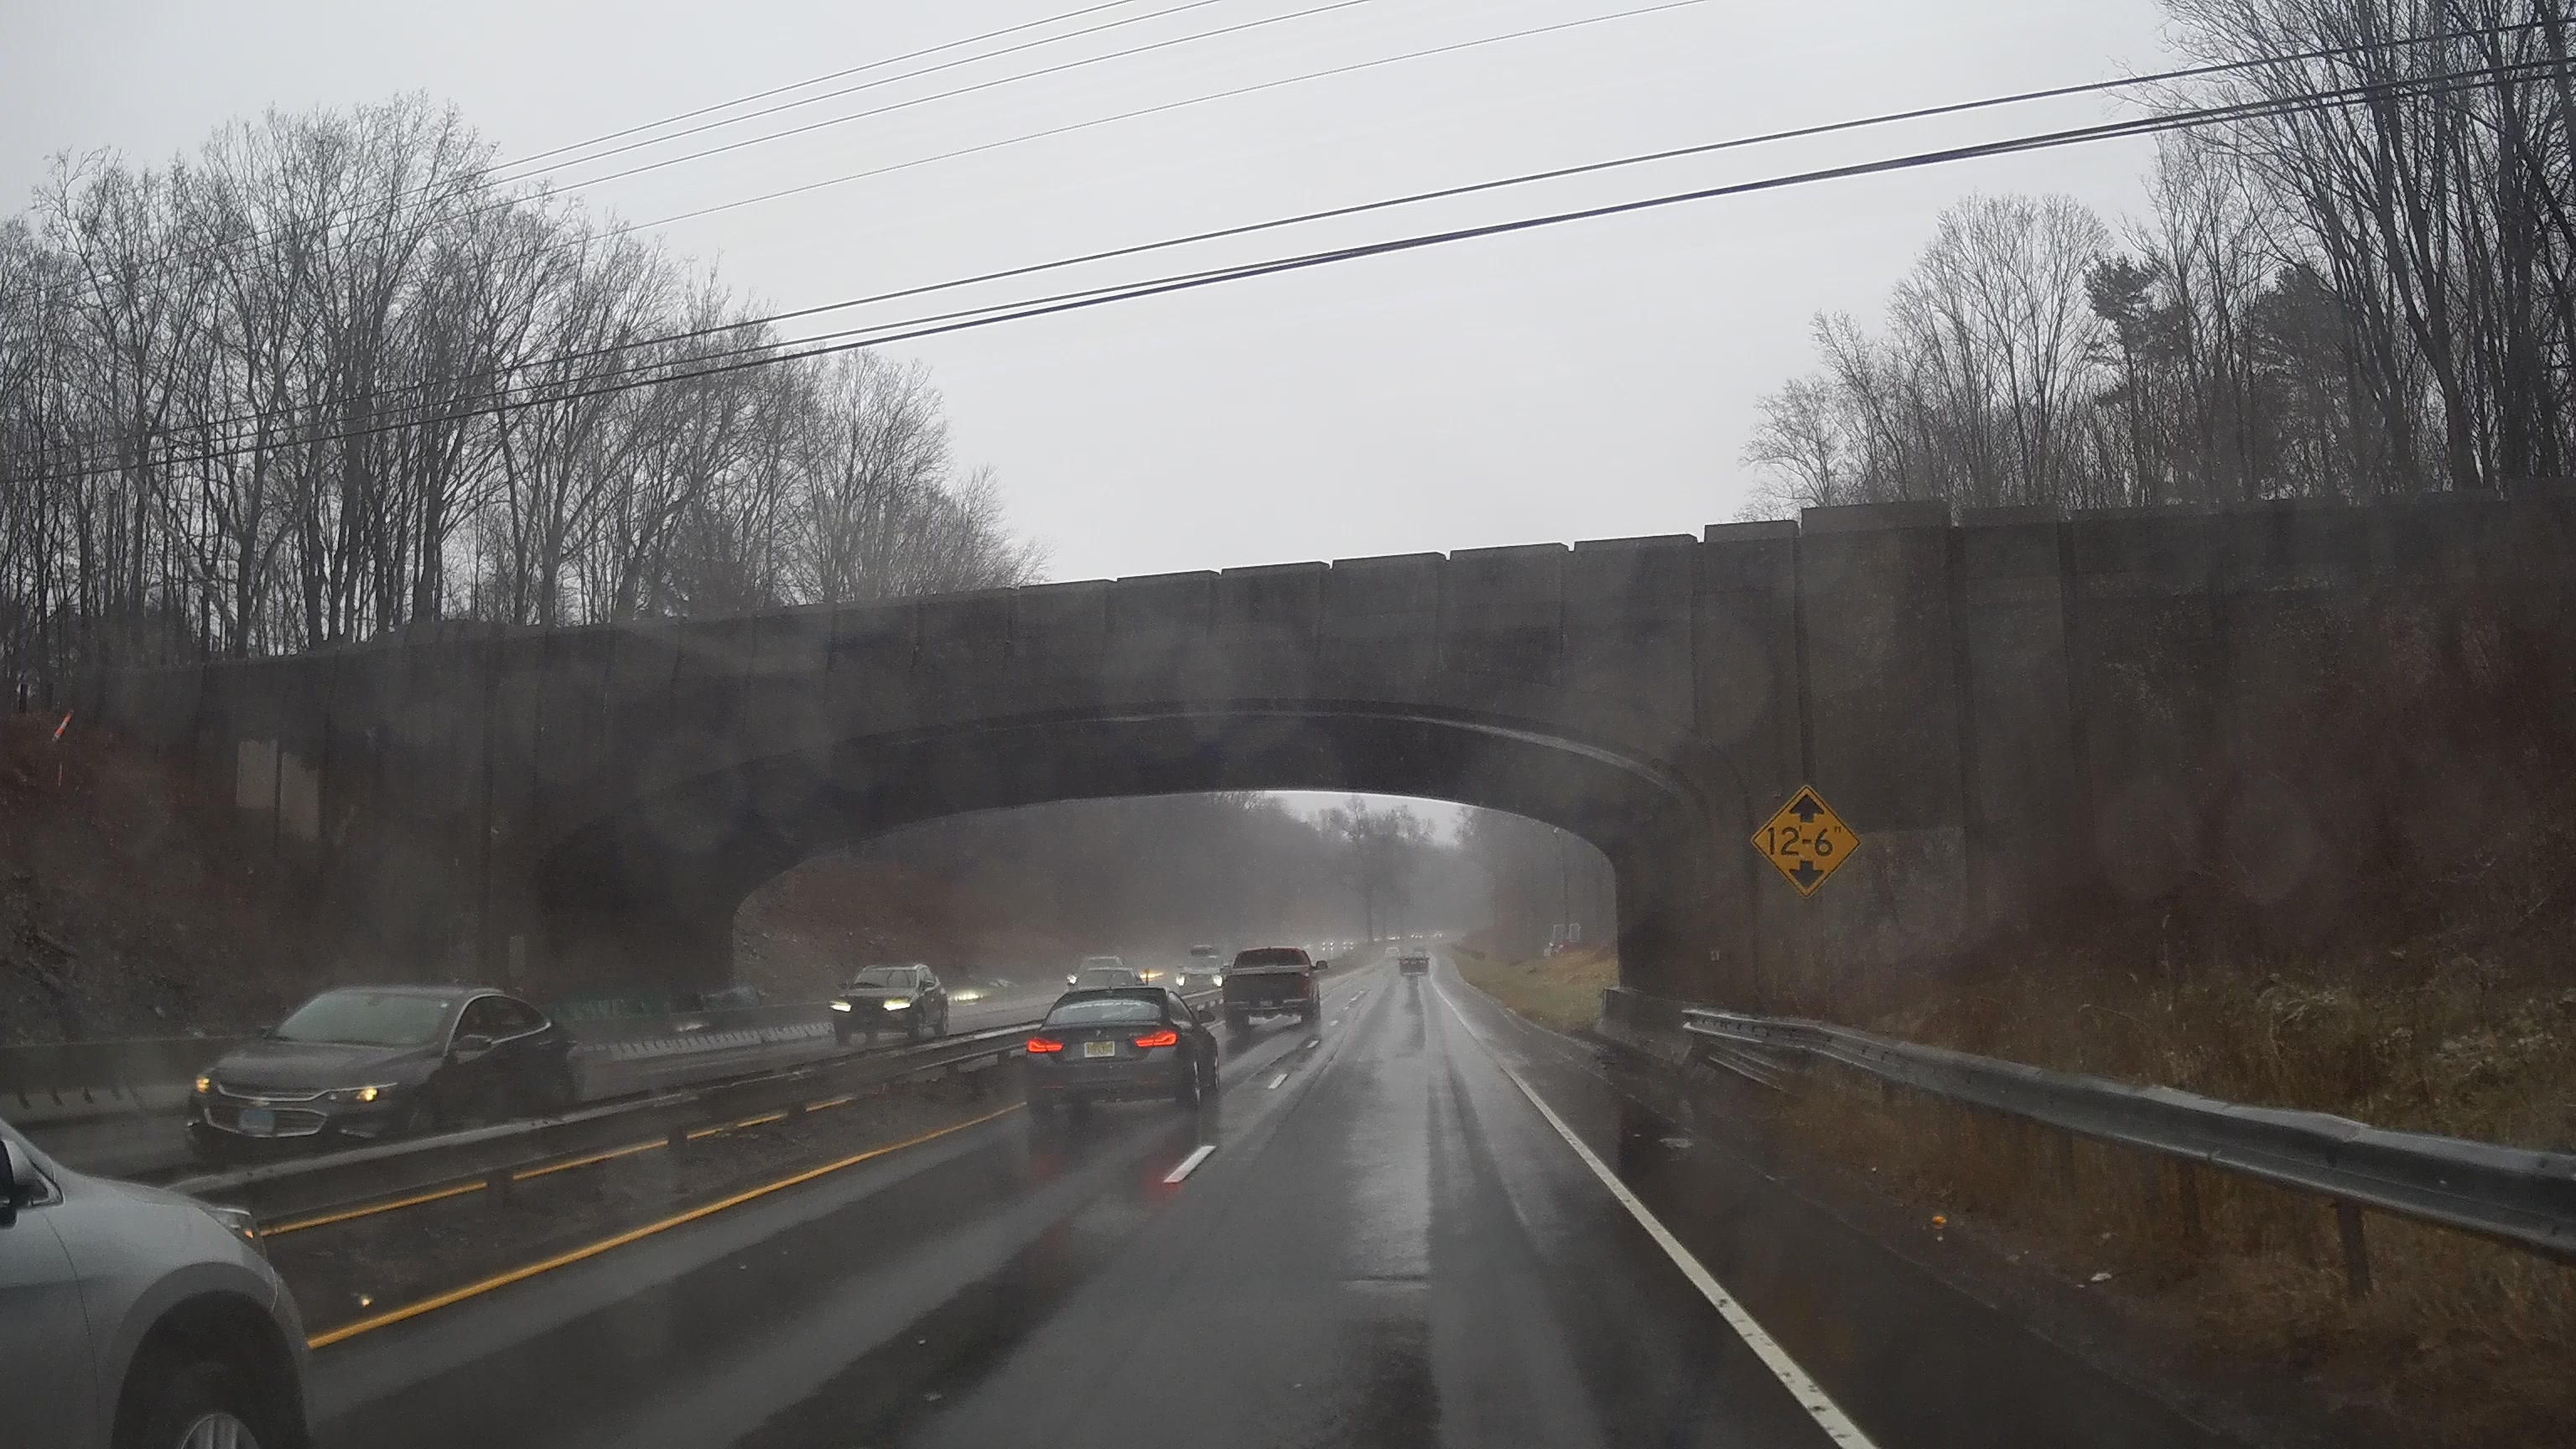low-clearance-sign: (1750, 784, 1861, 901)
